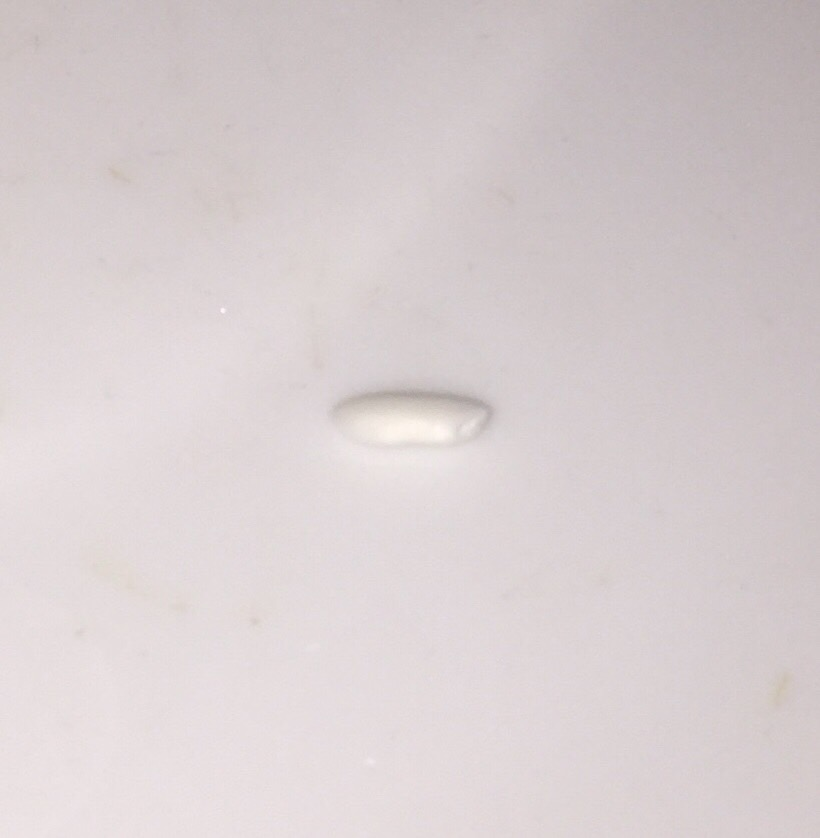Gao Nep Sap: (330, 358, 493, 469)
